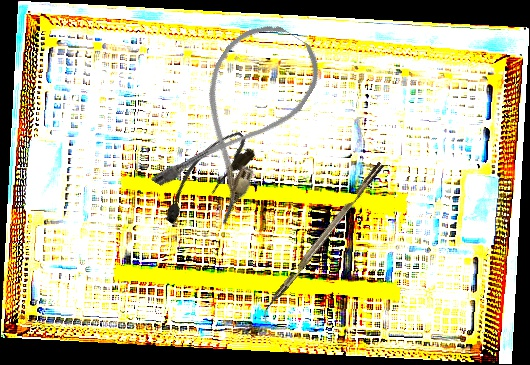Cannula: (145, 8, 333, 228), (149, 123, 260, 231)
Chopper: (254, 161, 393, 326)
